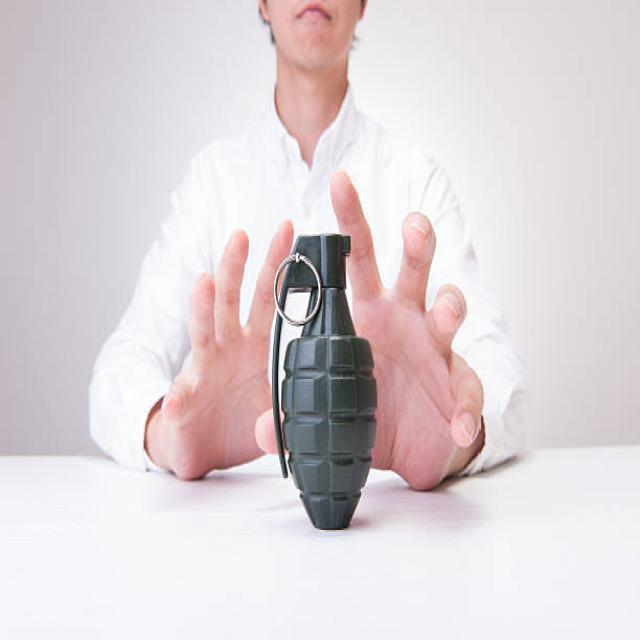grenade: (269, 225, 383, 536)
